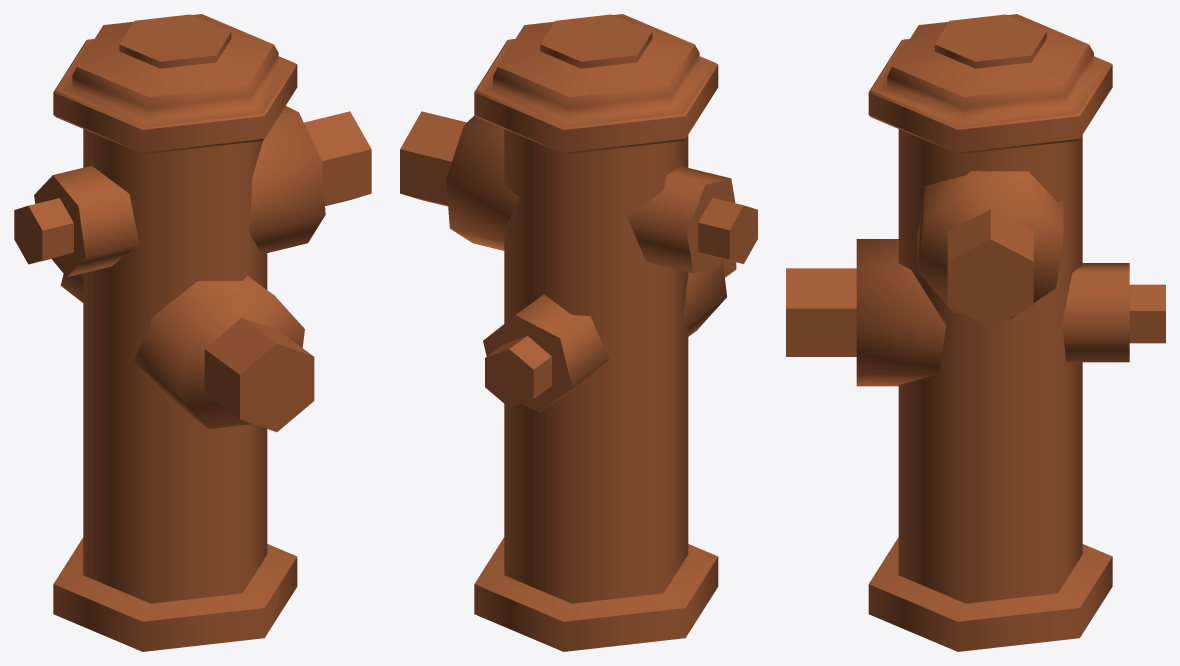
The model's file is mcp_fire_hydrant_01_LOD_1.FBX.
3 views of the same model, side by side, from view 1: azimuth 30°, elevation 25°; view 2: azimuth 150°, elevation 25°; view 3: azimuth 270°, elevation 25° (orthographic).
Visible parts, largest first — view 1: mcp_fire_hydrant_01; view 2: mcp_fire_hydrant_01; view 3: mcp_fire_hydrant_01.
Boxes of the visible parts, x1=… form: mcp_fire_hydrant_01: x1=14, y1=14, x2=371, y2=651; mcp_fire_hydrant_01: x1=400, y1=14, x2=757, y2=651; mcp_fire_hydrant_01: x1=786, y1=14, x2=1165, y2=651.
Size of the model in its own units: 56.75 by 94.69 by 57.95.
